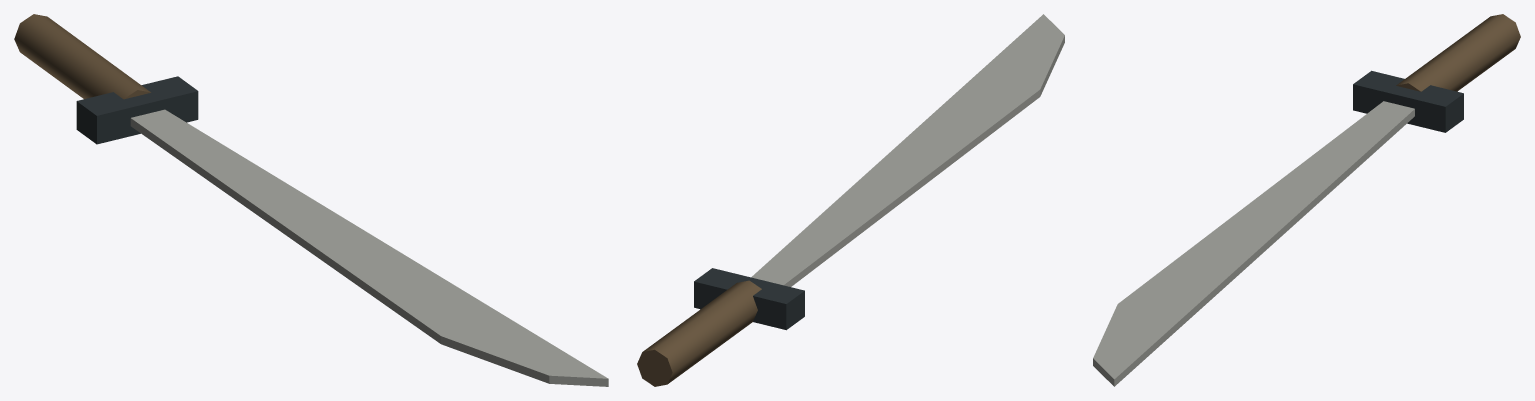
The picture shows the model from 3 angles, left to right: view 1: azimuth 30°, elevation 25°; view 2: azimuth 150°, elevation 25°; view 3: azimuth 330°, elevation 25°; orthographic projection. The views are drawn at different scales.
Visible parts, largest first — view 1: weapon-katana-painted; view 2: weapon-katana-painted; view 3: weapon-katana-painted.
Boxes of the visible parts, box(x1,y1,x2,y2) form: weapon-katana-painted: box(14, 14, 608, 386); weapon-katana-painted: box(637, 14, 1064, 386); weapon-katana-painted: box(1093, 14, 1520, 386).
Bounding box in the file's own units: 0.8345 × 0.2608 × 5.79.
